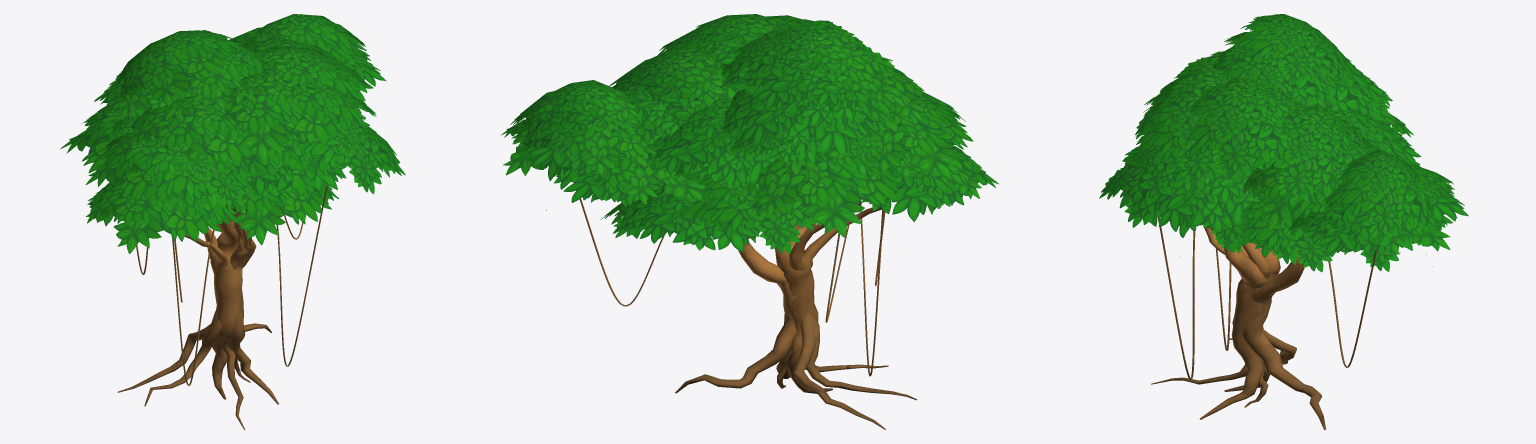
File: POHON BERINGIN002.fbx
The picture shows the model from 3 angles, left to right: view 1: azimuth 30°, elevation 25°; view 2: azimuth 150°, elevation 25°; view 3: azimuth 270°, elevation 25°; orthographic projection. The views are drawn at different scales.
Visible parts, largest first — view 1: Tree.001, daun 1.028, daun 1.061, daun 1.025, daun 1.022, daun 1.006, daun 1.049, daun 1.024, daun 1.012, daun 1.047, daun 1.029, daun 1.056 (+8 smaller); view 2: daun 1.061, Tree.001, daun 1.050, daun 1.029, daun 1.007, daun 1.011, daun 1.028, daun 1.026, daun 1.021, daun 1.020, daun 1.002, daun 1.025 (+11 smaller); view 3: Tree.001, daun 1.024, daun 1.047, daun 1.029, daun 1.011, daun 1.061, daun 1.049, daun 1.056, daun 1.019, daun 1.055, daun 1.027, daun 1.007 (+9 smaller).
Part boxes in pixels (<box>): Tree.001: <box>117,144,336,429</box>; daun 1.028: <box>85,131,245,207</box>; daun 1.061: <box>114,30,246,106</box>; daun 1.025: <box>86,178,239,253</box>; daun 1.022: <box>128,95,256,175</box>; daun 1.006: <box>216,71,309,161</box>; daun 1.049: <box>256,79,376,156</box>; daun 1.024: <box>297,123,405,194</box>; daun 1.012: <box>225,185,338,245</box>; daun 1.047: <box>253,46,370,100</box>; daun 1.029: <box>244,14,366,63</box>; daun 1.056: <box>172,46,263,108</box>; daun 1.061: <box>732,20,895,130</box>; Tree.001: <box>579,198,917,429</box>; daun 1.050: <box>737,147,904,237</box>; daun 1.029: <box>510,80,638,210</box>; daun 1.007: <box>717,89,890,174</box>; daun 1.011: <box>609,47,737,129</box>; daun 1.028: <box>869,91,973,179</box>; daun 1.026: <box>600,184,762,252</box>; daun 1.021: <box>683,176,821,253</box>; daun 1.020: <box>554,143,705,205</box>; daun 1.002: <box>658,97,775,203</box>; daun 1.025: <box>861,144,998,221</box>; Tree.001: <box>1151,218,1376,429</box>; daun 1.024: <box>1099,140,1253,256</box>; daun 1.047: <box>1188,77,1307,182</box>; daun 1.029: <box>1324,150,1447,246</box>; daun 1.011: <box>1251,105,1368,206</box>; daun 1.061: <box>1224,14,1357,100</box>; daun 1.049: <box>1135,93,1263,193</box>; daun 1.056: <box>1211,47,1339,106</box>; daun 1.019: <box>1305,210,1450,255</box>; daun 1.055: <box>1240,200,1345,272</box>; daun 1.027: <box>1289,158,1456,252</box>; daun 1.007: <box>1300,58,1385,120</box>.
Size of the model in its own units: 497 by 408 by 453.
Materials: 2 (2 with a texture image).
